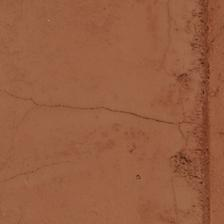Crack: (171, 2, 219, 223), (5, 91, 203, 132)
